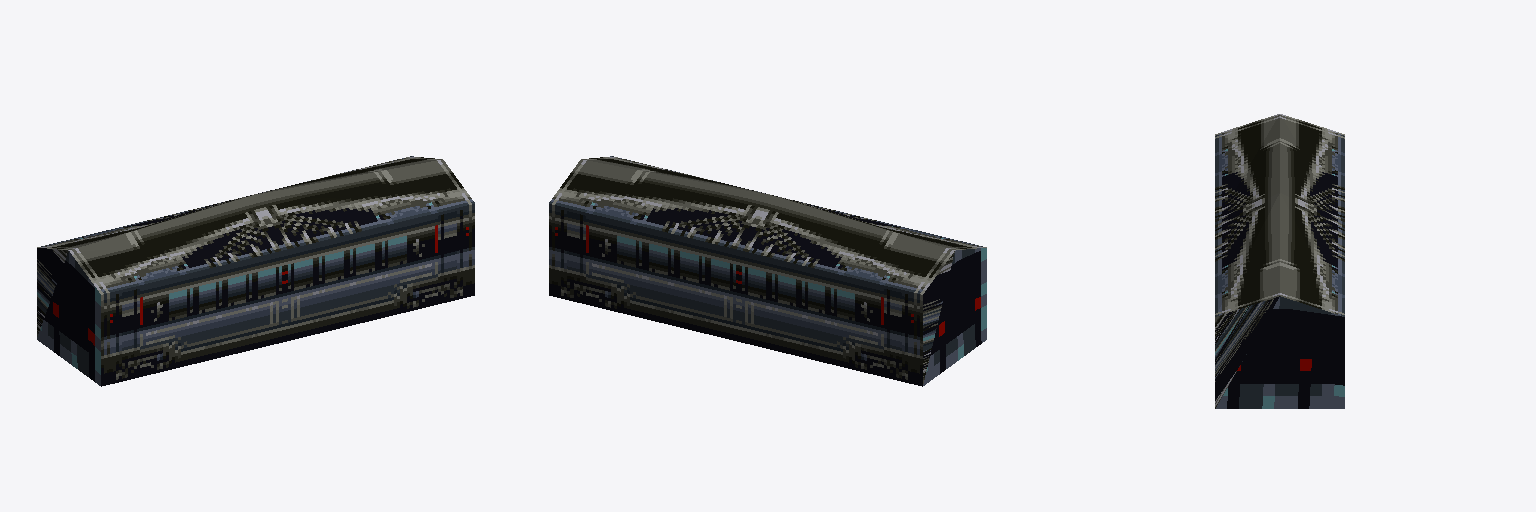
The picture shows the model from 3 angles: view 1: azimuth 30°, elevation 25°; view 2: azimuth 150°, elevation 25°; view 3: azimuth 270°, elevation 25°; orthographic projection.
Size of the model in its own units: 6.82 by 2.14 by 2.04.
1 materials, 1 textured.